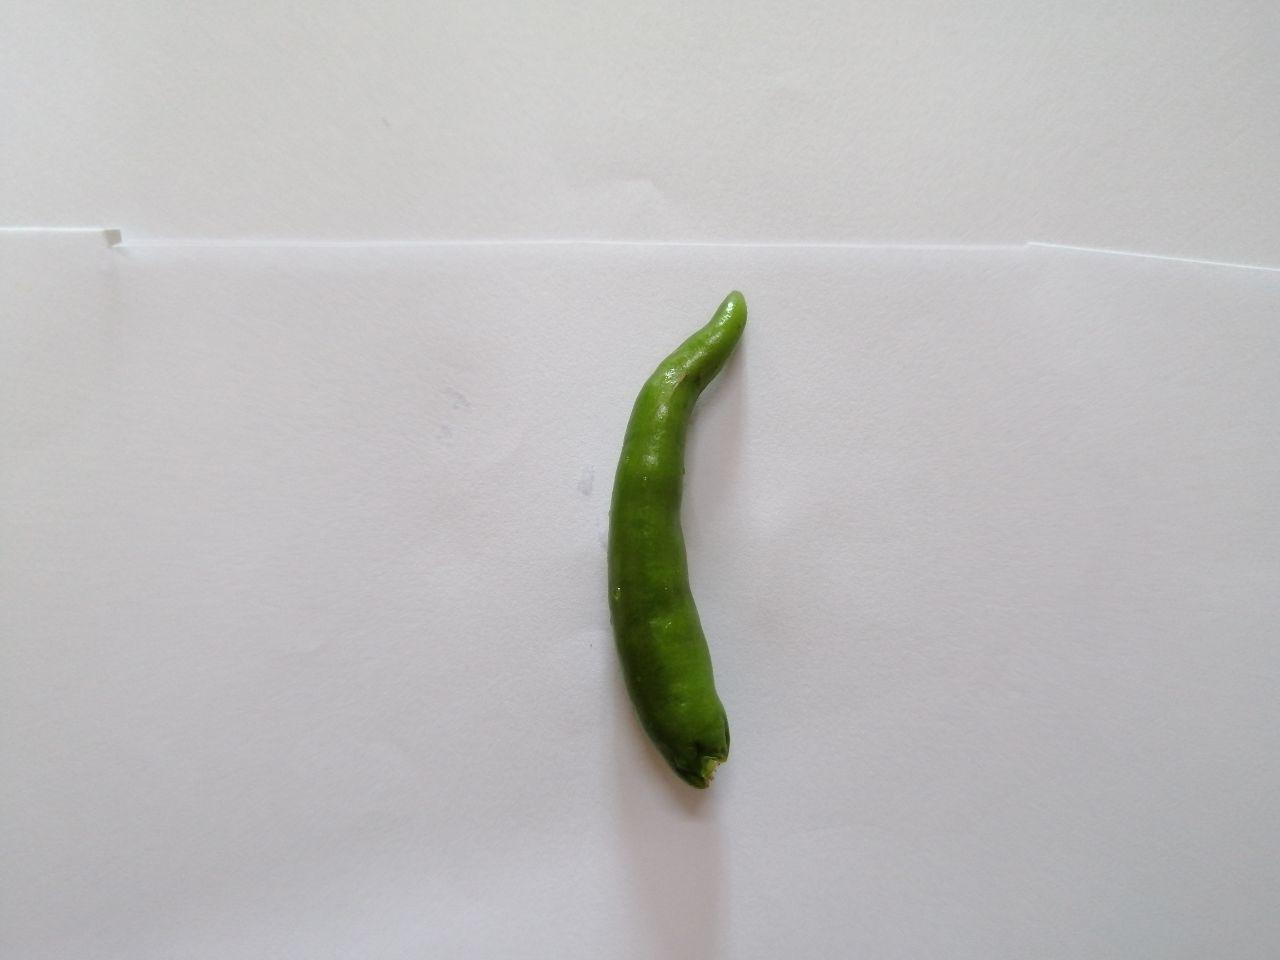lada hijau: (583, 281, 785, 802)
